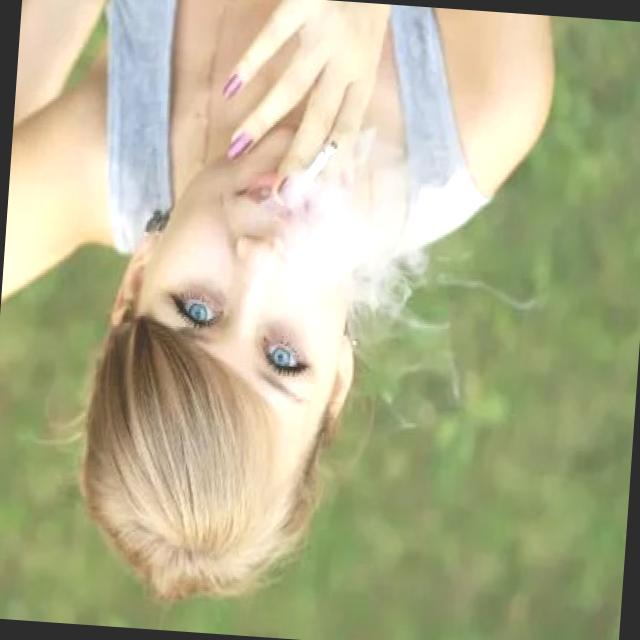smoke: (283, 122, 337, 210)
